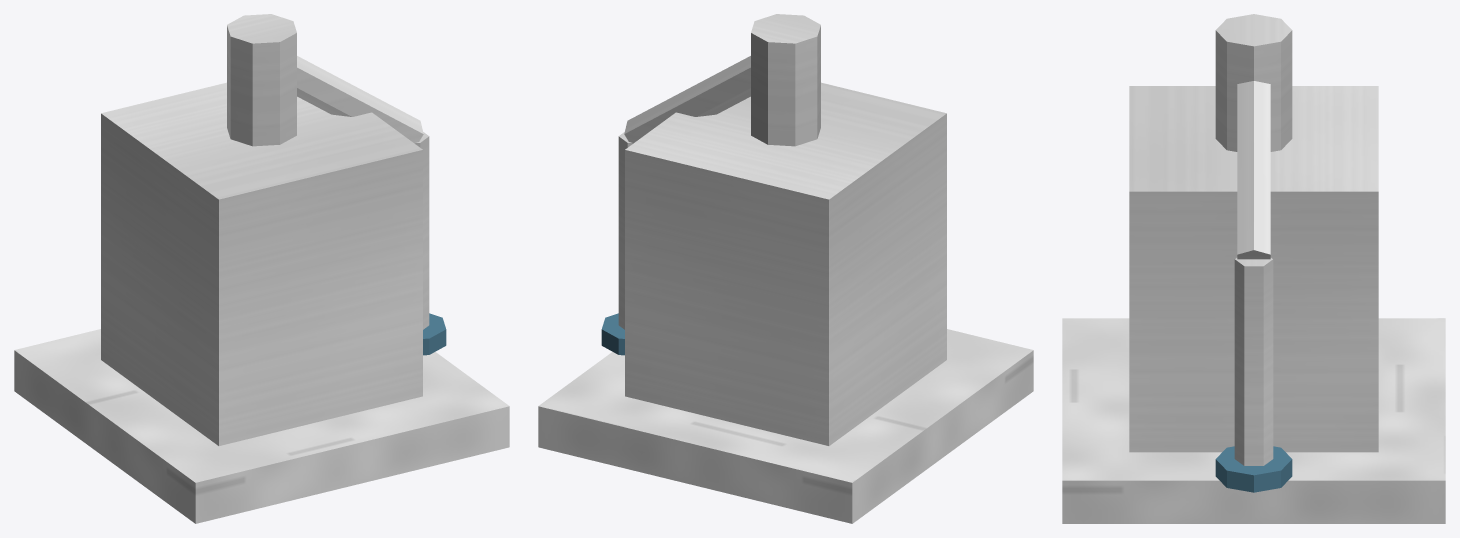
File: moisture_pump.obj
The picture shows the model from 3 angles, left to right: view 1: azimuth 30°, elevation 25°; view 2: azimuth 150°, elevation 25°; view 3: azimuth 270°, elevation 25°; orthographic projection. The views are drawn at different scales.
Visible parts, largest first — view 1: moisture_pump; view 2: moisture_pump; view 3: moisture_pump.
Boxes of the visible parts, left/top/right/bottom form: moisture_pump: left=14, top=14, right=509, bottom=523; moisture_pump: left=538, top=14, right=1033, bottom=523; moisture_pump: left=1062, top=14, right=1445, bottom=523.
Bounding box in the file's own units: 0.86 × 0.95 × 0.8.
